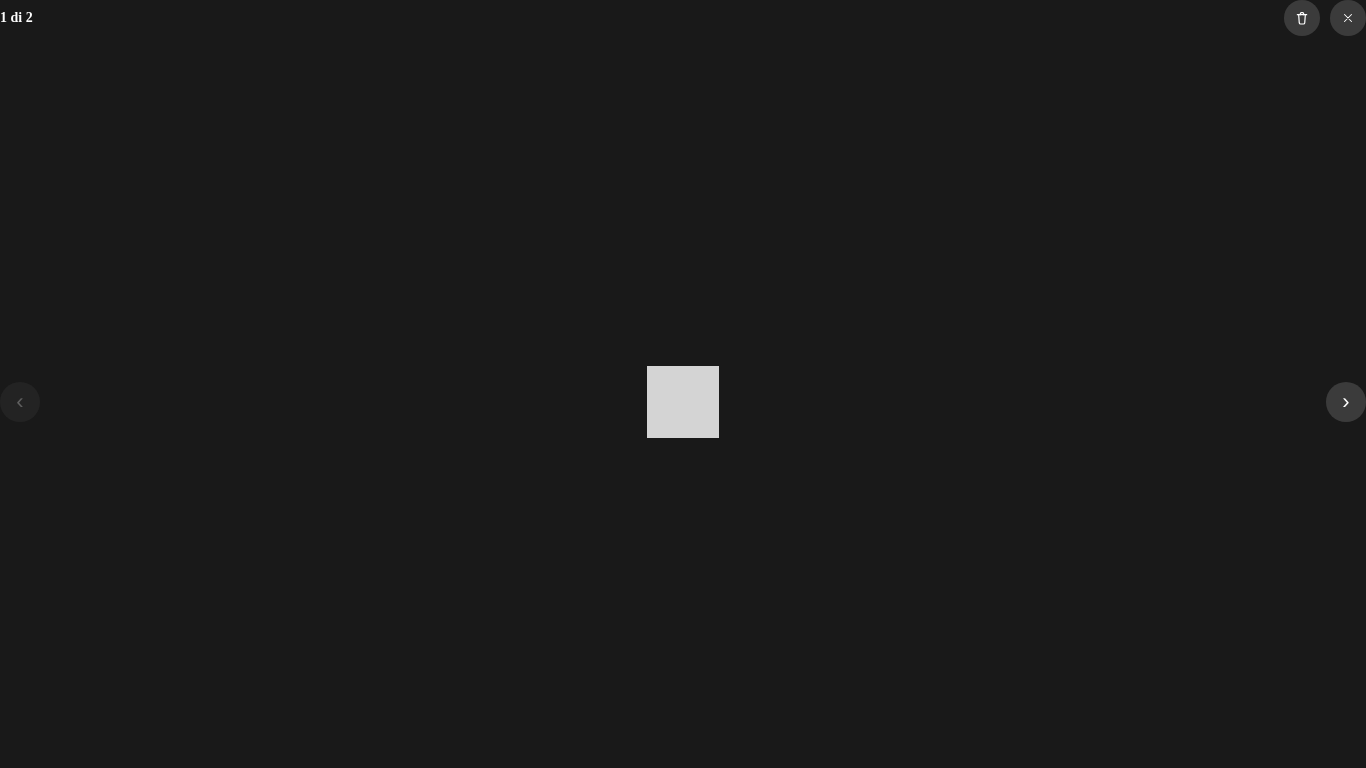
Test case: MediaViewer › cancelling the confirm dialog keeps the item
The width and height of the screenshot is (1366, 768).
Click the button named "Elimina".
click(1302, 18)  # box x1=1284 y1=0 x2=1320 y2=36
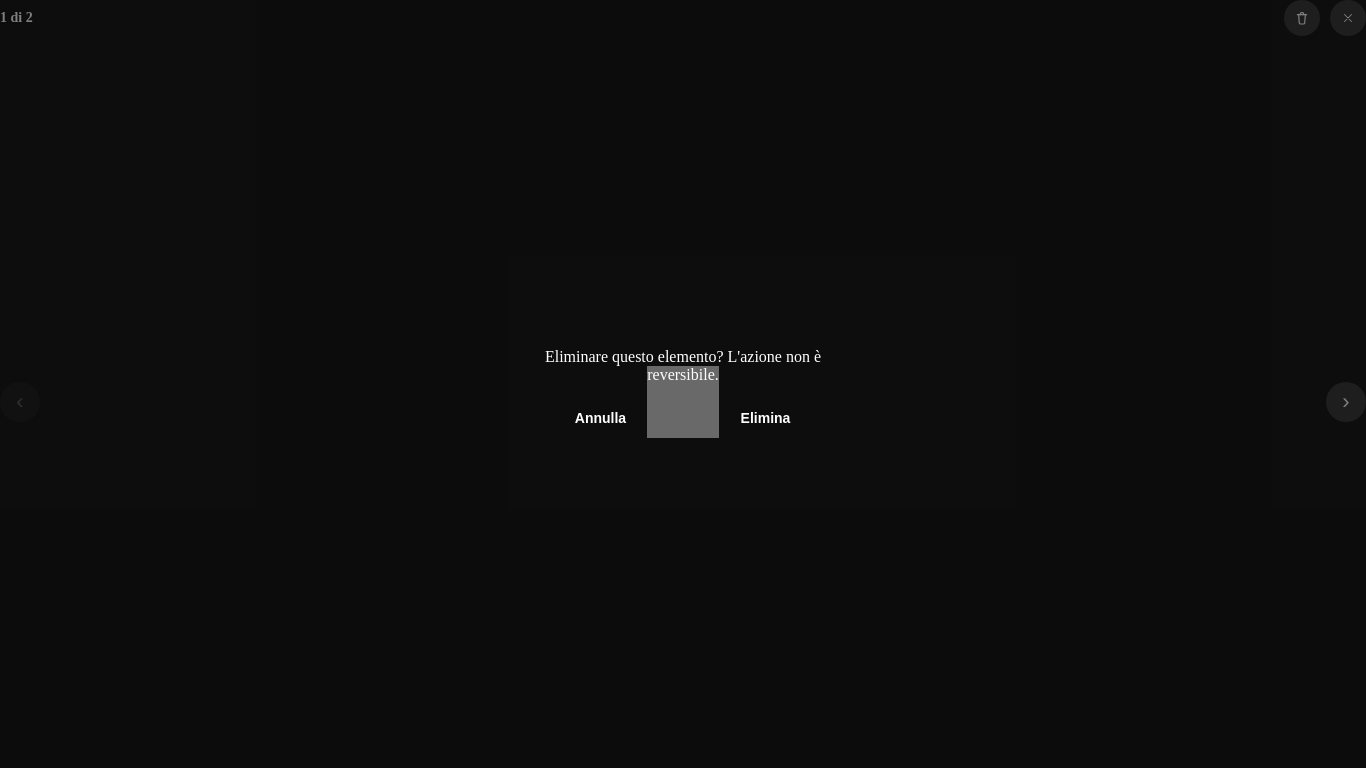
Click the button "Annulla".
click(600, 418)  # box x1=523 y1=400 x2=678 y2=436
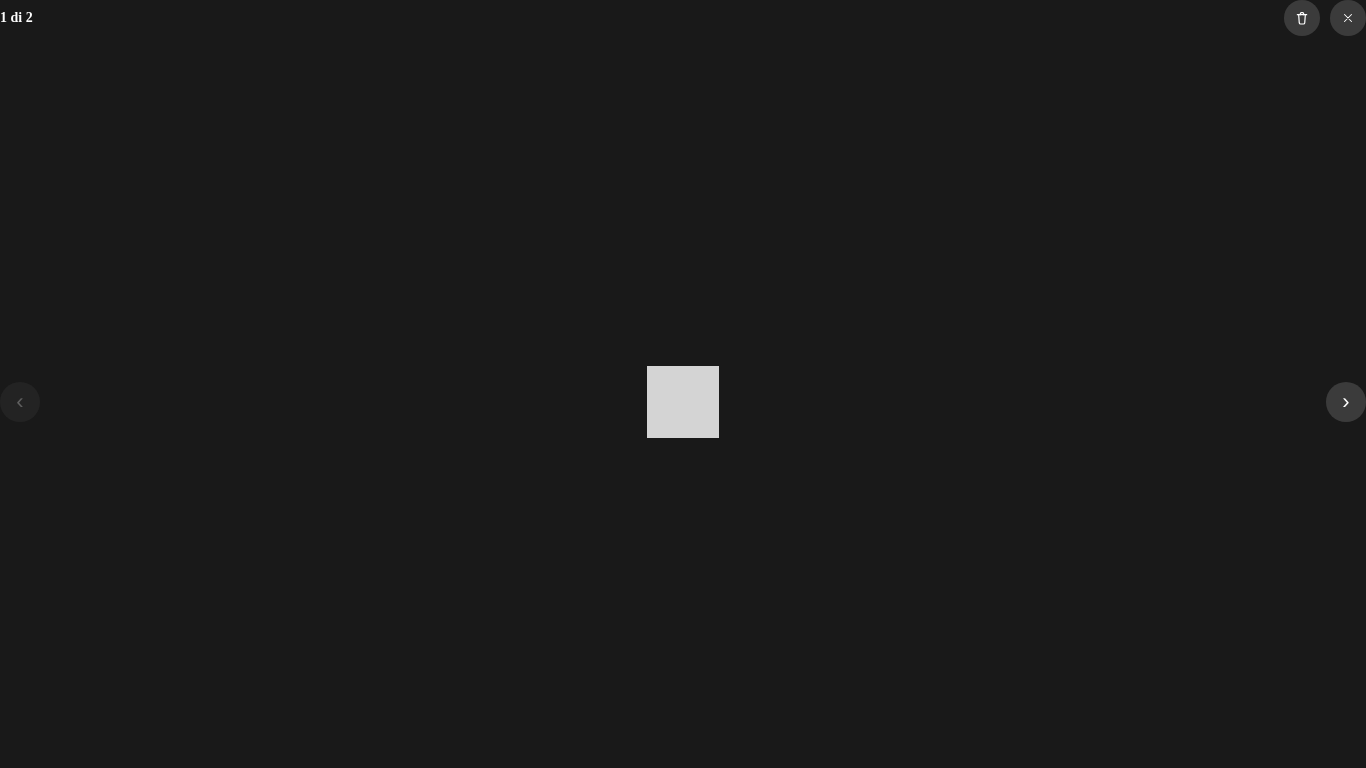
Expected: the text "non è reversibile" is gone
